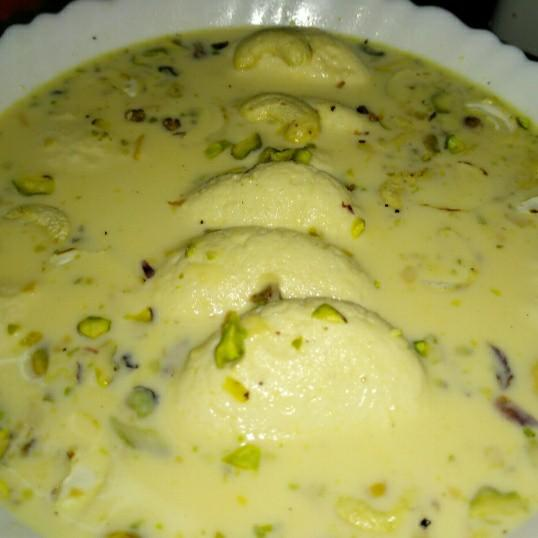RasMalai: (0, 21, 538, 538)
